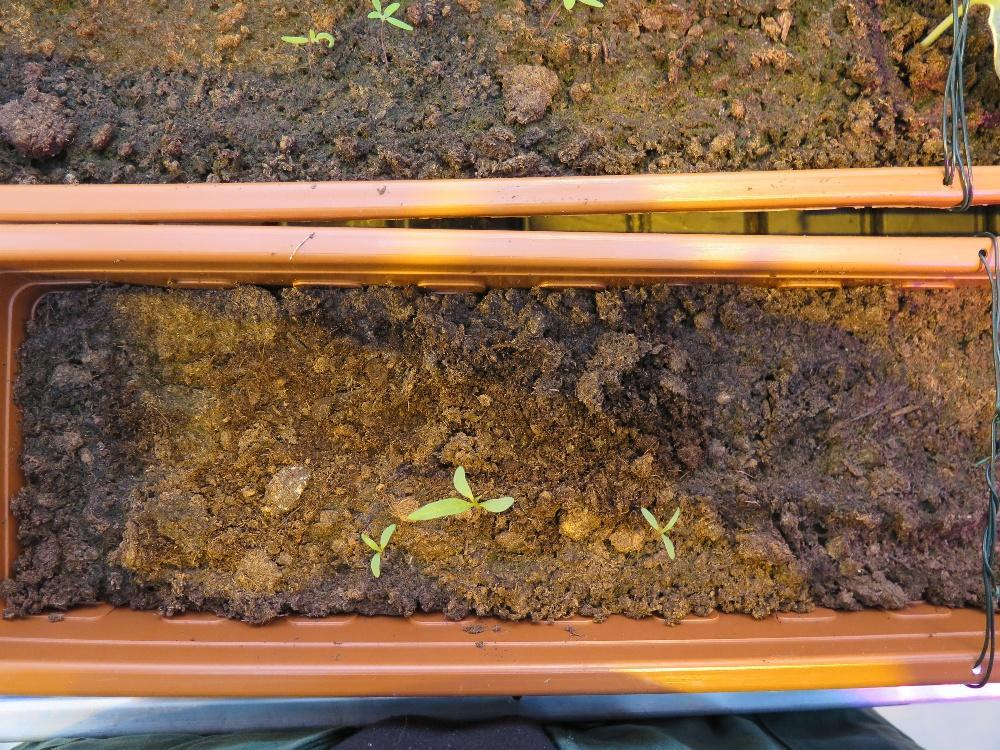weed: (404, 461, 514, 521), (638, 504, 681, 559), (358, 521, 395, 578), (278, 25, 333, 49)
